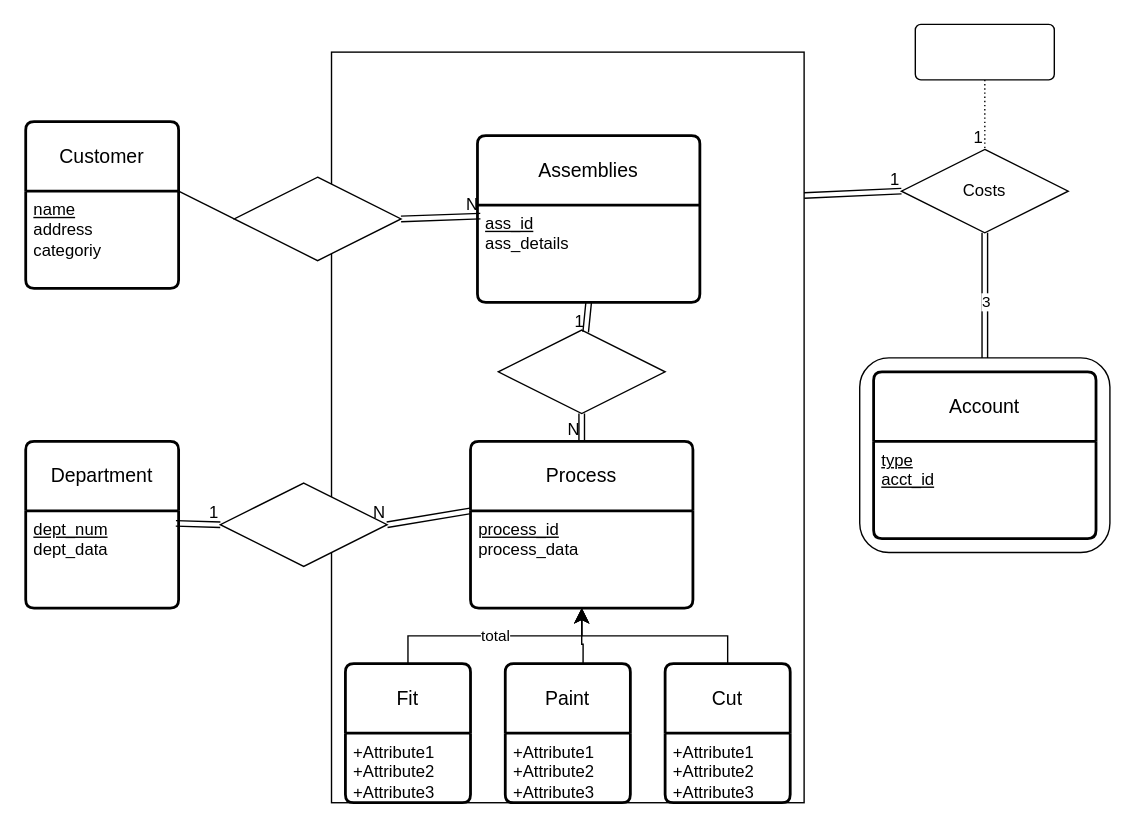
Some shapes in this 1134 by 828 pixel diagram are drawn without their labels. Each missing label, with the centre of its shape:
"Create" goes at point 581,371.
"job_num" goes at point 984,51.
"Orders" goes at point 317,218.
"Supervises" goes at point 303,524.
